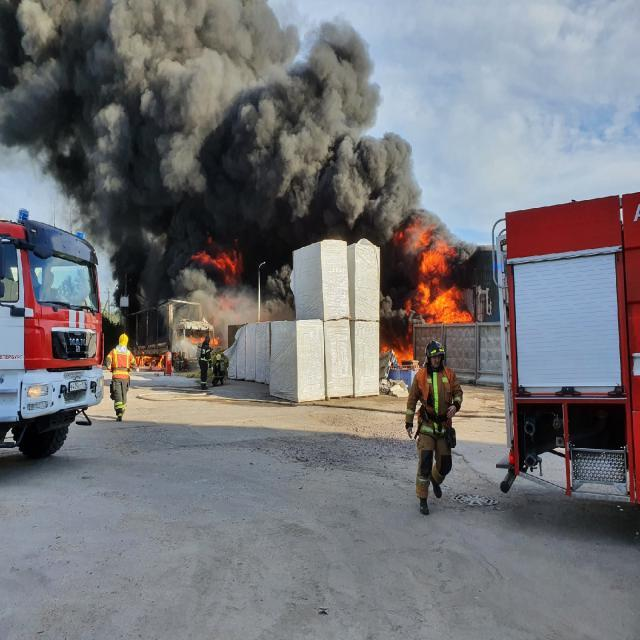Fire: (392, 214, 472, 324), (192, 235, 242, 288), (380, 338, 414, 363), (134, 350, 164, 370), (190, 334, 218, 346)
Smoke: (0, 0, 445, 328)
